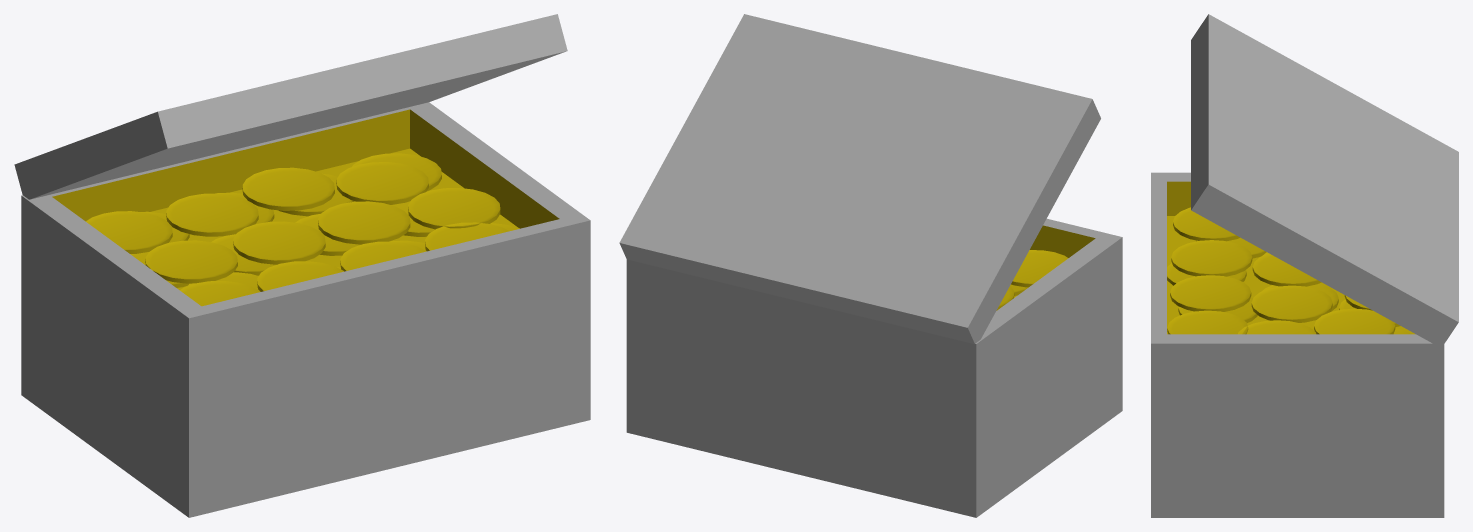
The model's file is treasure-chest-fbx.fbx.
3 renders of one model, left to right at view 1: azimuth 30°, elevation 25°; view 2: azimuth 150°, elevation 25°; view 3: azimuth 270°, elevation 25°, orthographic. The views are drawn at different scales.
Parts seen in each view (by area): view 1: chest; view 2: chest; view 3: chest.
Boxes of the visible parts, x1,y1,x2,y2 form: chest: [14, 14, 590, 517]; chest: [619, 14, 1122, 517]; chest: [1151, 14, 1458, 517].
Bounding box in the file's own units: 60.9 × 55.35 × 46.28.
